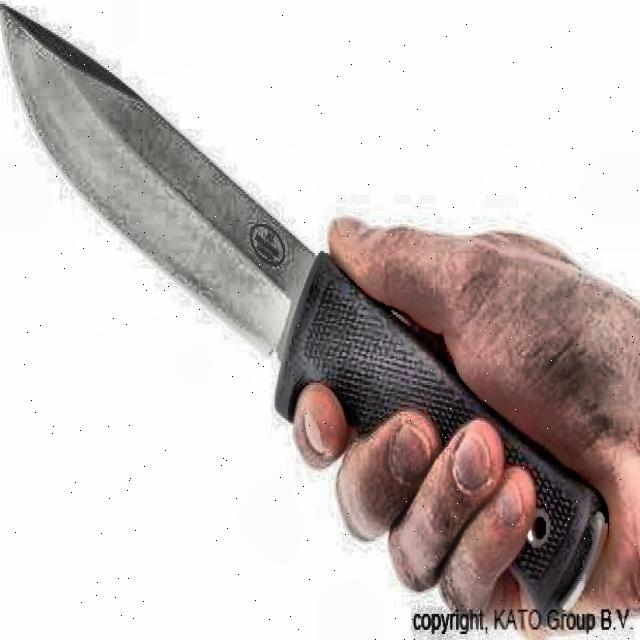knife: (0, 4, 607, 626)
